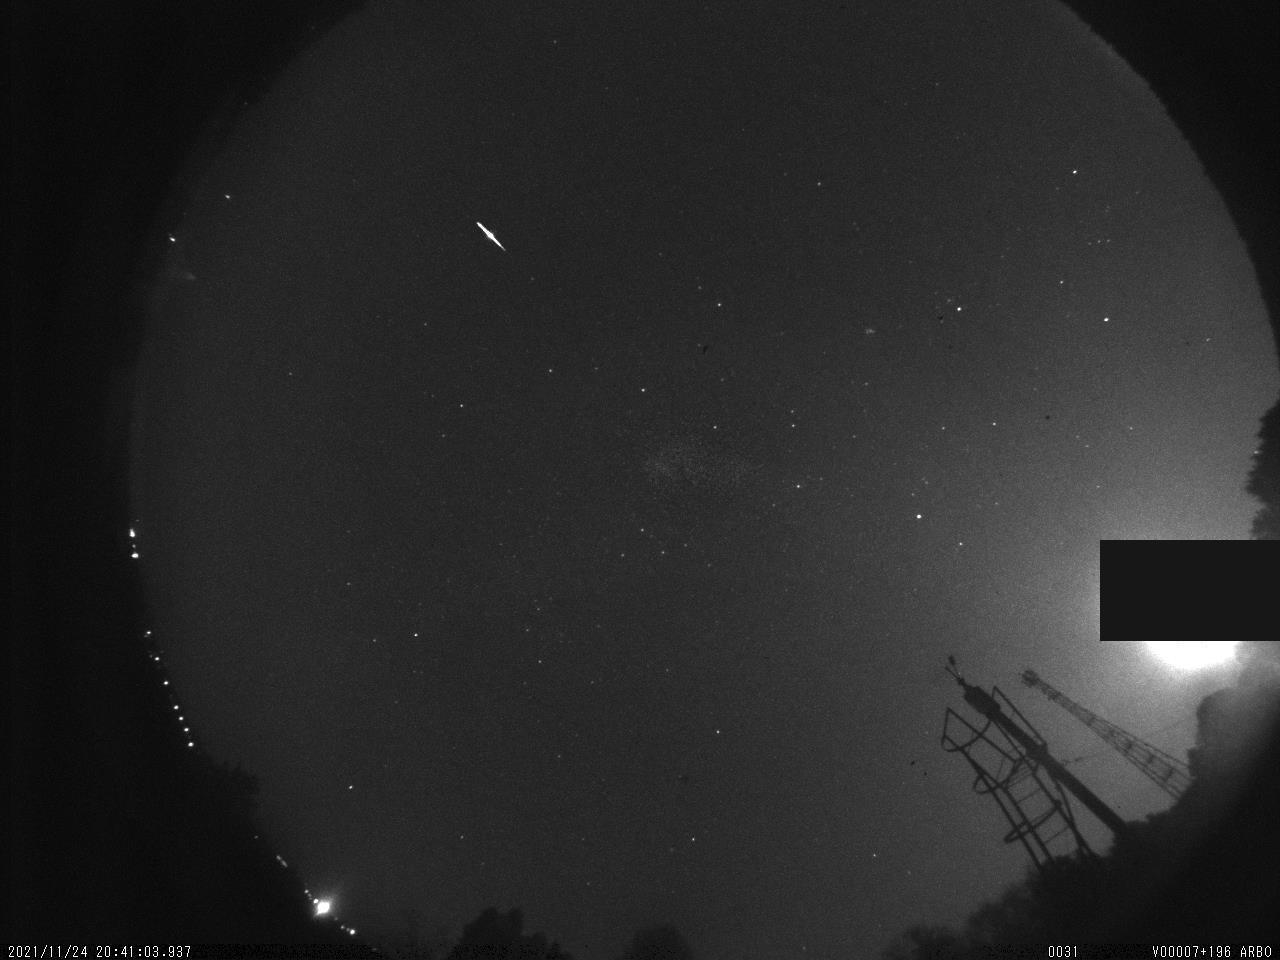meteor: (470, 212, 527, 267)
